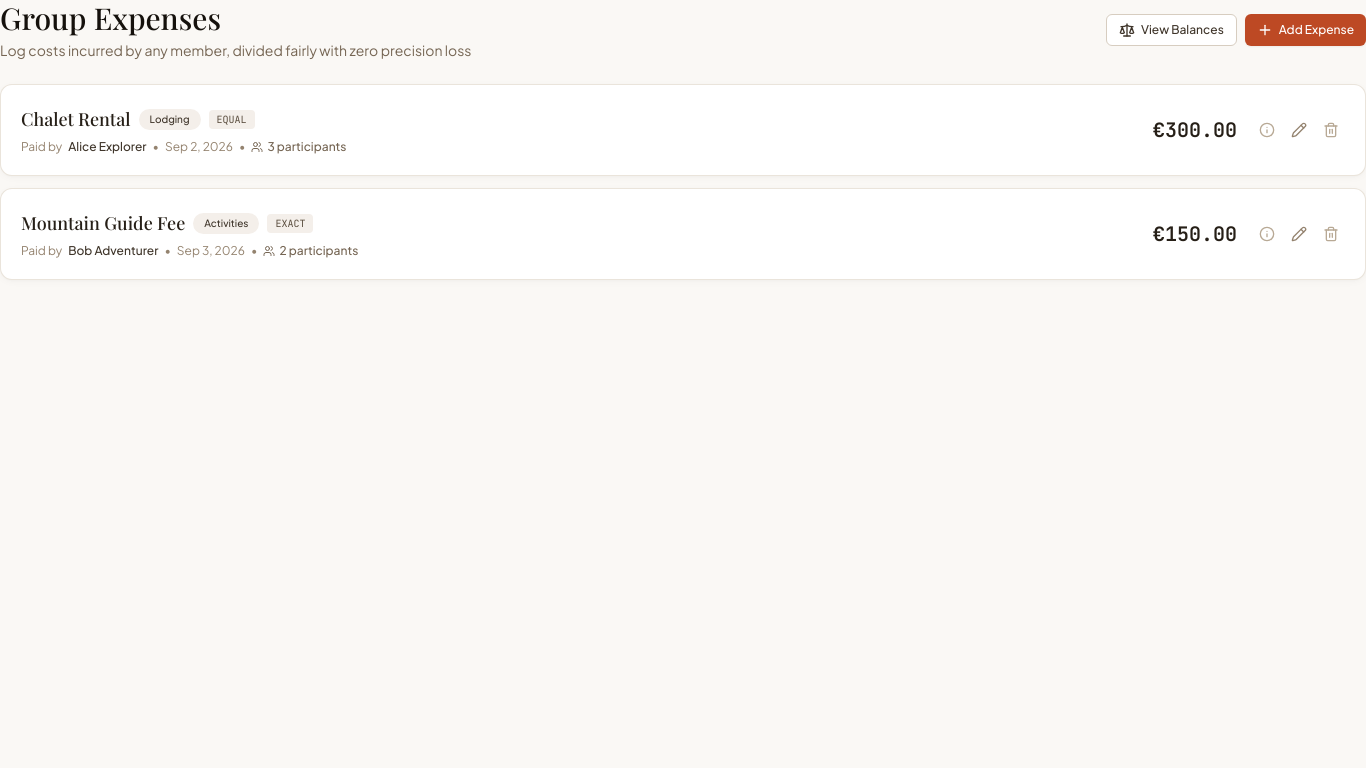
Test: TripExpensesPage › opens expense details modal and renders full breakdown
The width and height of the screenshot is (1366, 768).
Check: the heading "Chalet Rental" is shown, box [21,105,131,133]
# Click details button for Chalet Rental
Click the button named "View details for Chalet Rental": point(1267, 130) [1253,116,1281,144]
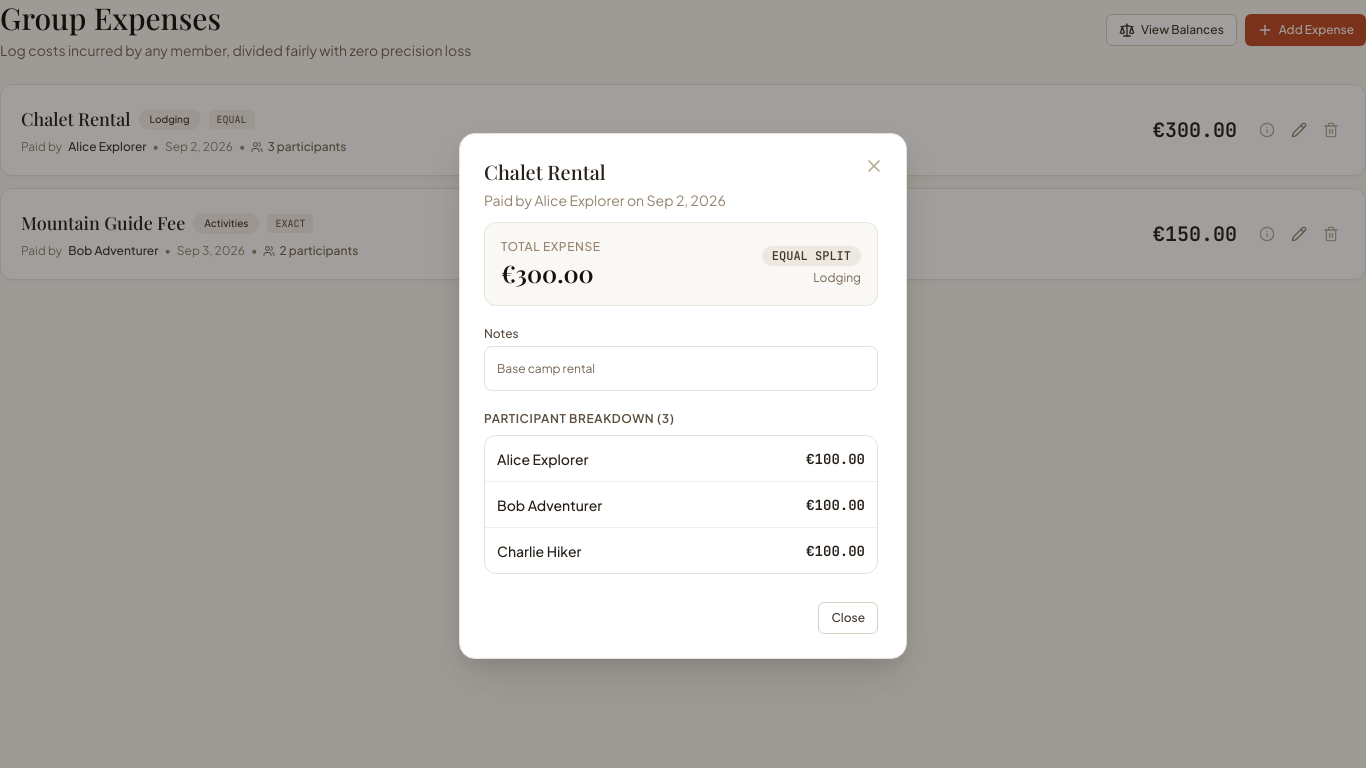
Check: the heading "Participant Breakdown (3)" is shown, box [484,411,675,427]
Check: the text "Base camp rental" is shown, box [484,346,878,391]
# Close details modal
Click the button named "Close modal": point(874, 166) [858,150,890,182]
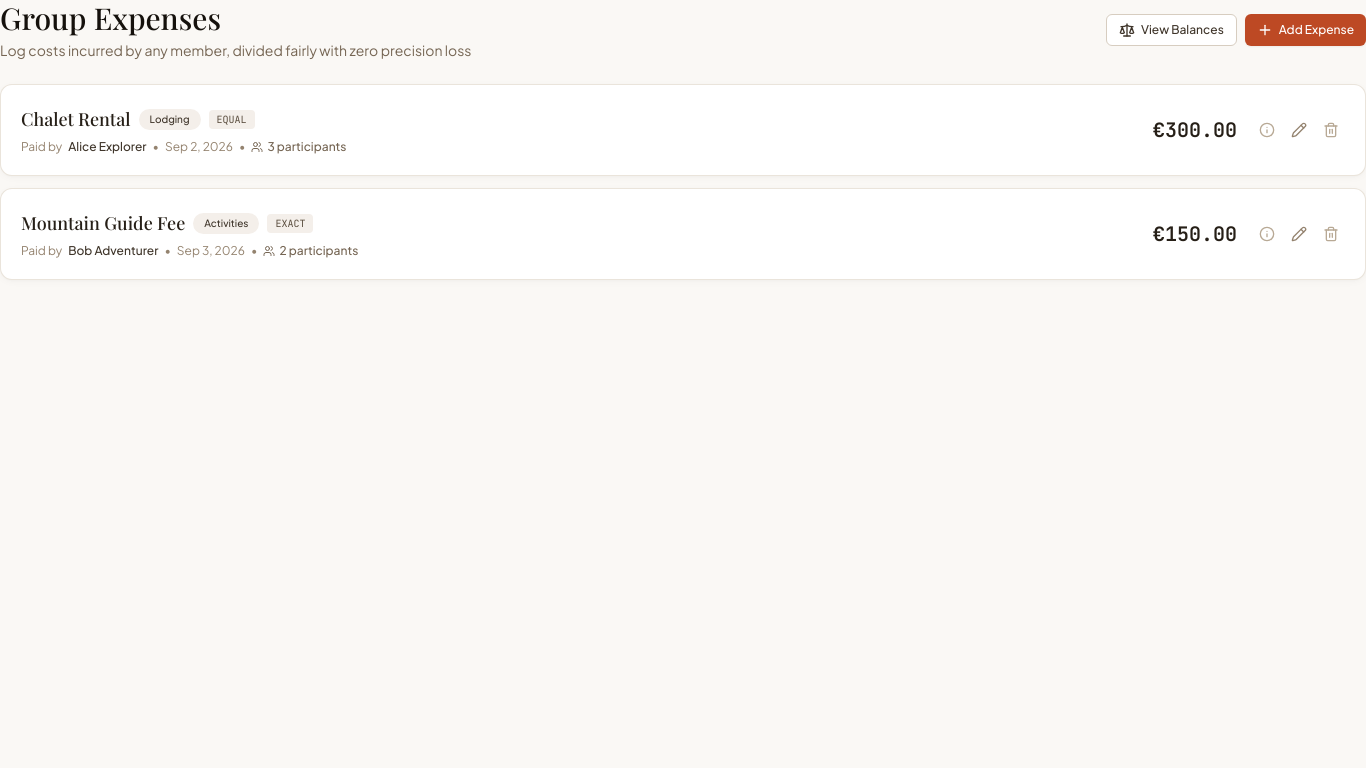
Check: the heading "Participant Breakdown (3)" is gone
